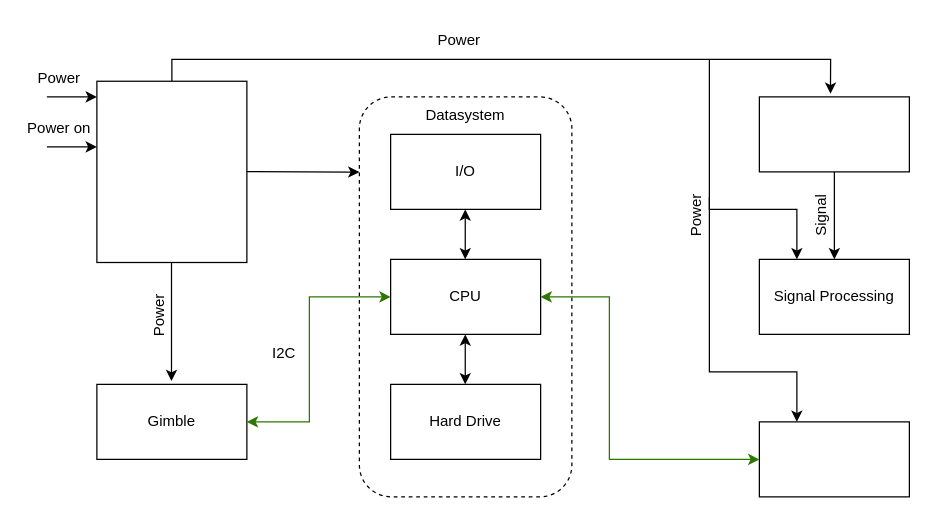
Image size: 931x519. Some labels were removed from this diagram. Here are the shapes that lost their labels. From the top down, the box of each, then its label:
(758, 96, 909, 172): IR Reciever
(96, 80, 247, 262): Power Disribution
(758, 421, 909, 497): Jammer
